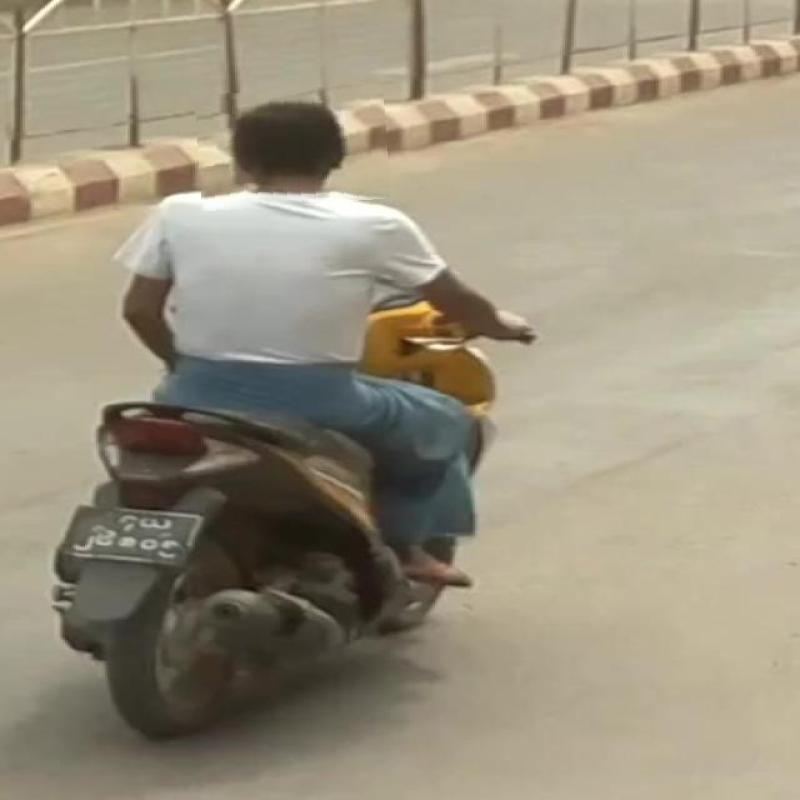nohelmet: (196, 86, 389, 208)
